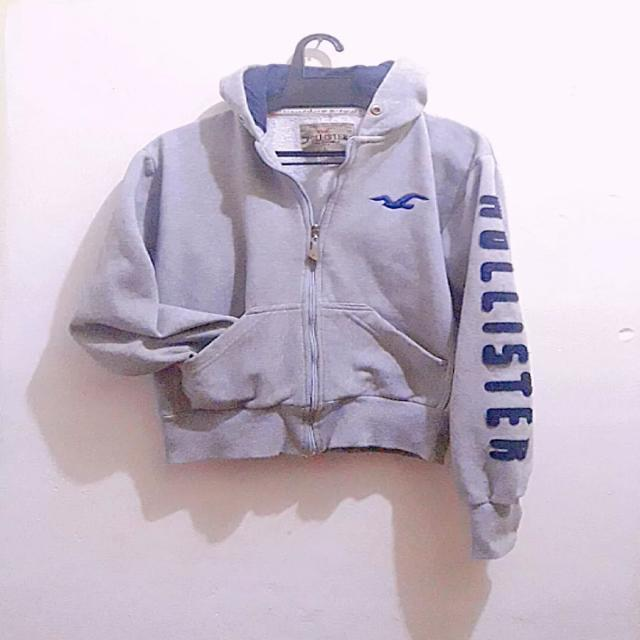sweater: (66, 59, 537, 564)
